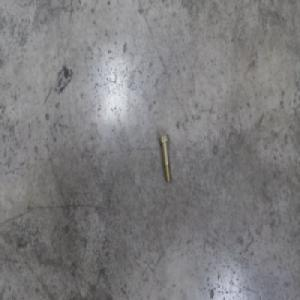Bolt: (158, 134, 171, 183)
